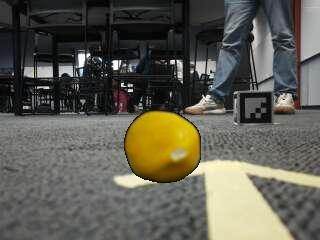lemon: (127, 113, 201, 184)
